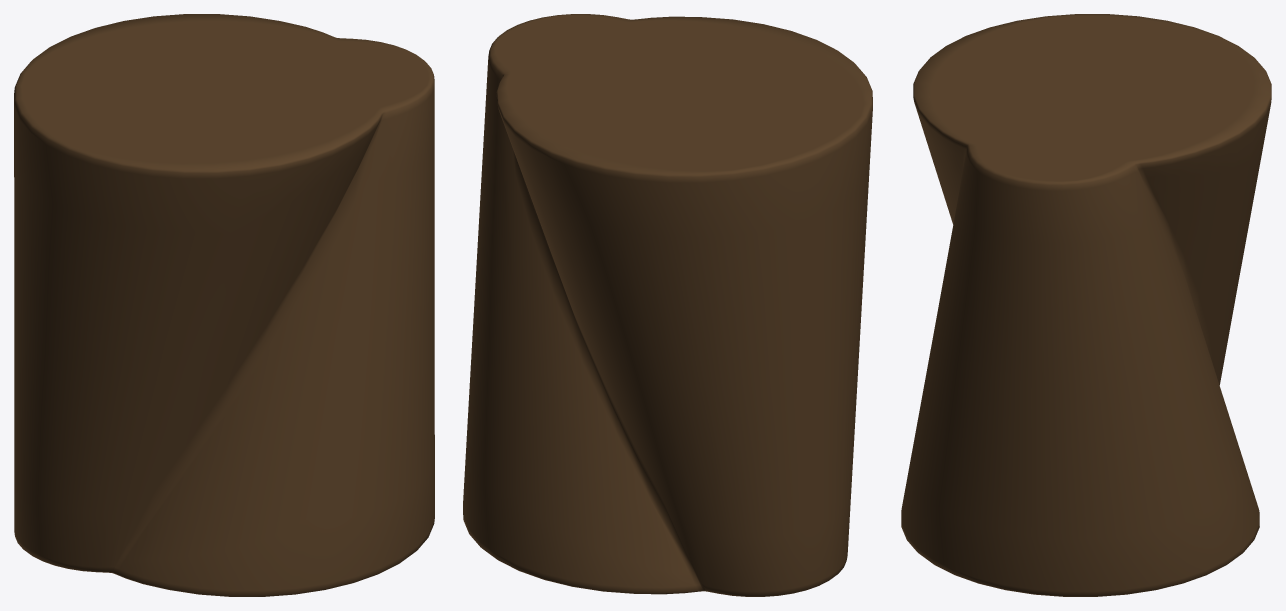
Rendered from Stool.fbx.
The picture shows the model from 3 angles, left to right: view 1: azimuth 30°, elevation 25°; view 2: azimuth 150°, elevation 25°; view 3: azimuth 270°, elevation 25°; orthographic projection. The views are drawn at different scales.
Visible parts, largest first — view 1: Stool; view 2: Stool; view 3: Stool.
Boxes of the visible parts, bbox=[...] form: Stool: bbox=[14, 14, 434, 596]; Stool: bbox=[463, 14, 872, 596]; Stool: bbox=[901, 14, 1271, 596].
Size of the model in its own units: 39.75 by 45 by 36.44.
